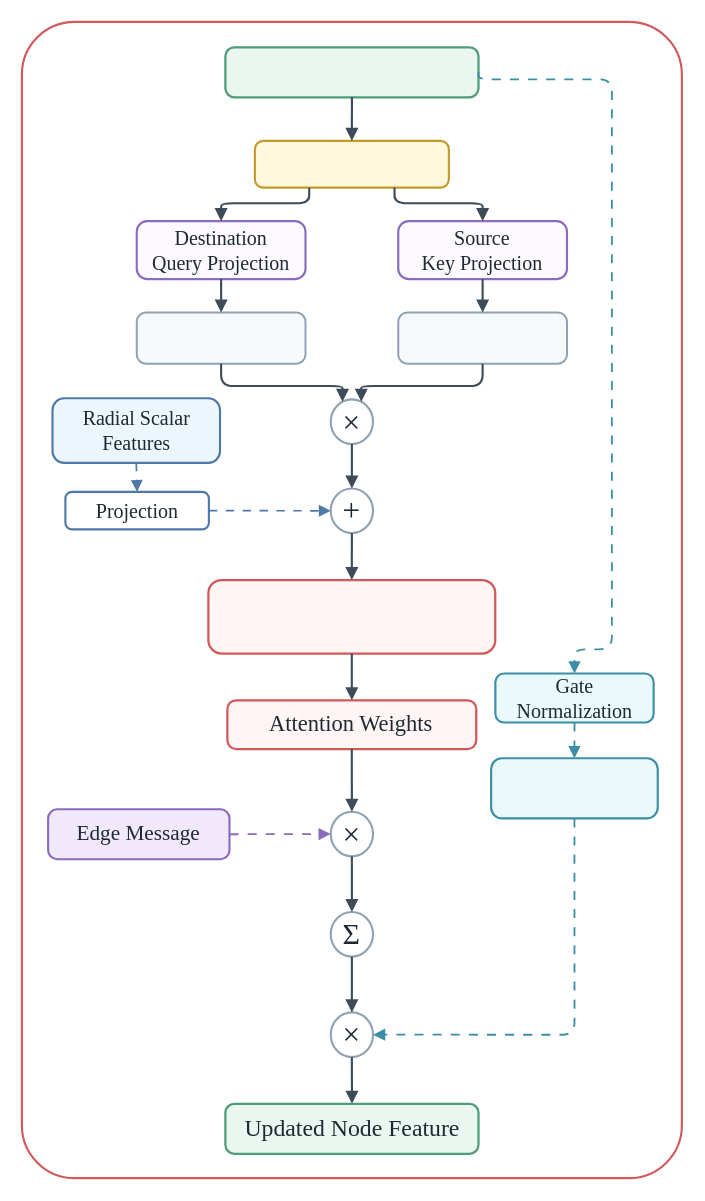
This 705x1201 diagram has some shape labels left out. Each missing label, with the box of its shape:
Gather by Destination Edge: (135, 311, 306, 364)
Gather by Source Edge: (397, 311, 567, 364)
Node Scalar Features: (224, 46, 479, 98)
Scalar RMSNorm: (253, 139, 449, 188)
Sigmoid Head Gate: (489, 757, 658, 819)
Smooth Gated Softmax: (207, 578, 496, 654)
